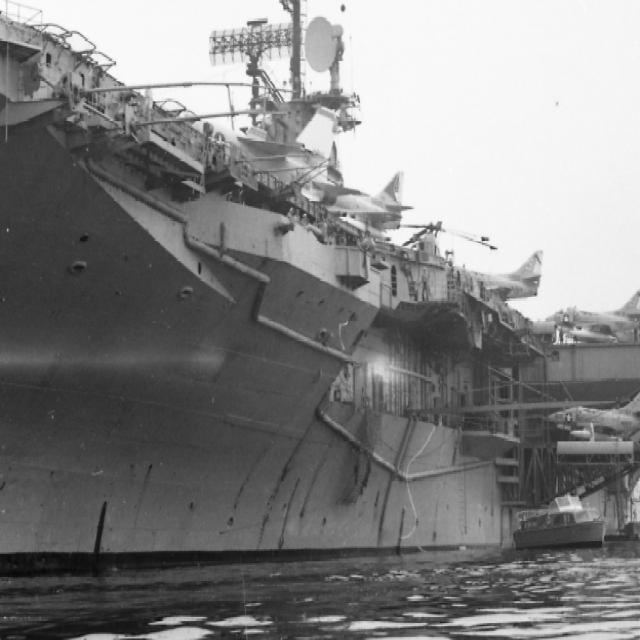Portanaves: (1, 1, 640, 547)
